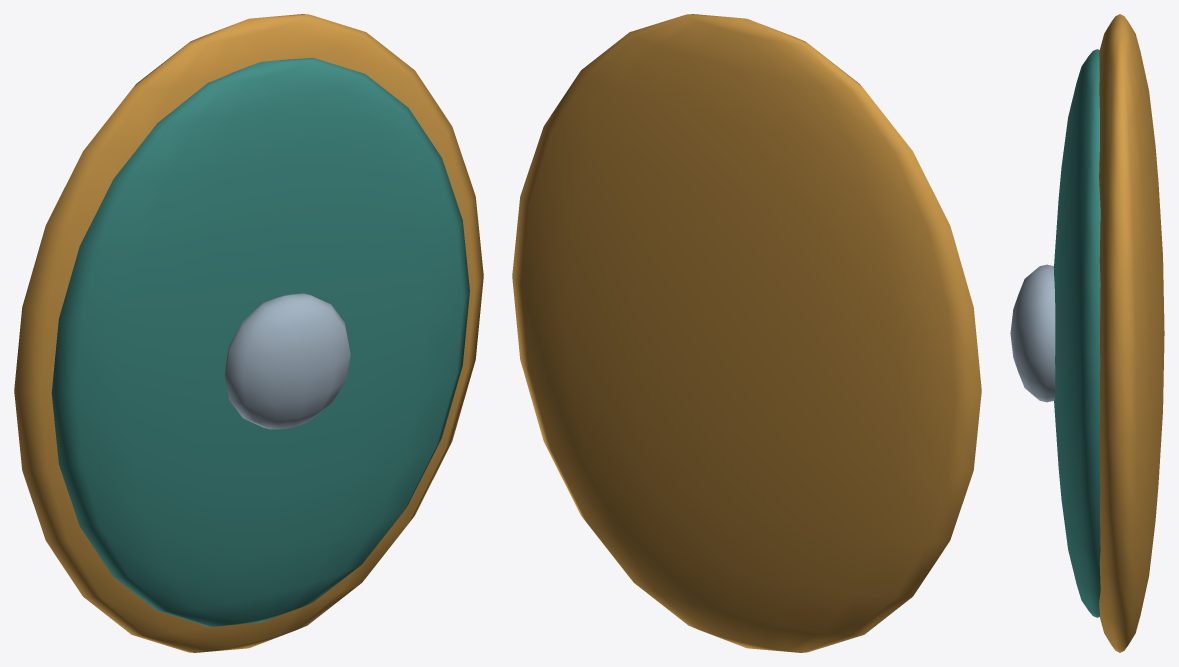
The model's file is shield.glb.
3 views of the same model, side by side, from view 1: azimuth 30°, elevation 25°; view 2: azimuth 150°, elevation 25°; view 3: azimuth 270°, elevation 25° (orthographic). The views are drawn at different scales.
Visible parts, largest first — view 1: Face, Rim, Boss; view 2: Rim; view 3: Rim, Face, Boss.
Part boxes in pixels (x1=…): Face: x1=51, y1=58, x2=469, y2=626; Rim: x1=14, y1=14, x2=483, y2=652; Boss: x1=224, y1=293, x2=350, y2=429; Rim: x1=512, y1=14, x2=981, y2=652; Rim: x1=1099, y1=14, x2=1164, y2=652; Face: x1=1054, y1=49, x2=1100, y2=617; Boss: x1=1010, y1=264, x2=1055, y2=402.
Size of the model in its own units: 0.64 by 0.82 by 0.19.
